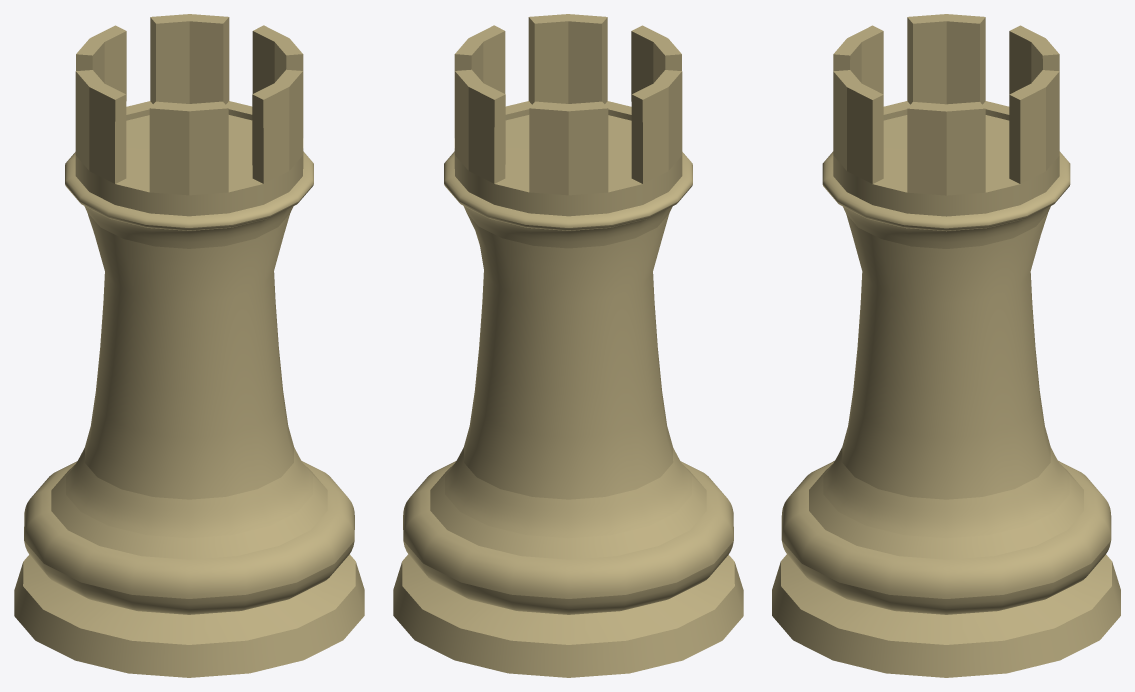
File: Rook_piece.fbx
3 views of the same model, side by side, from view 1: azimuth 30°, elevation 25°; view 2: azimuth 150°, elevation 25°; view 3: azimuth 270°, elevation 25° (orthographic).
Parts seen in each view (by area): view 1: Rook; view 2: Rook; view 3: Rook.
Part boxes in pixels (x1,y1,x2,y2): Rook: (14,14,364,677); Rook: (393,14,743,677); Rook: (772,14,1120,677).
Bounding box in the file's own units: 2.6 × 4.36 × 2.55.
